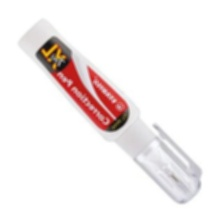correction_fluid: (16, 18, 202, 205)
